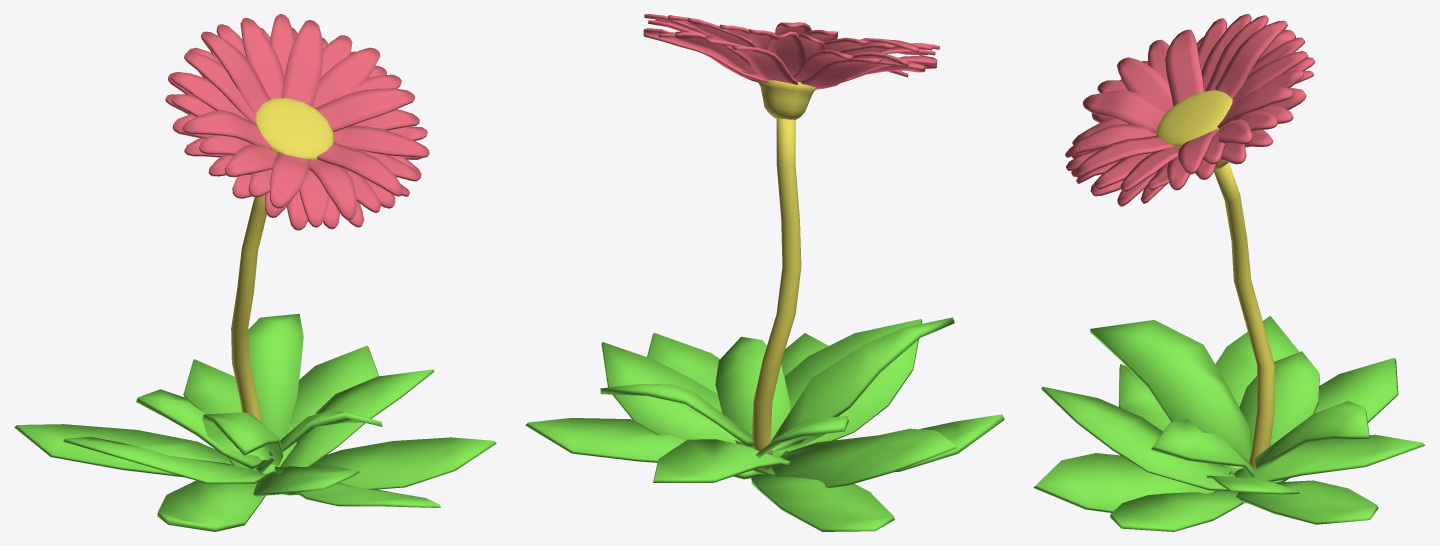
The model's file is ga-bera.fbx.
3 views of the same model, side by side, from view 1: azimuth 30°, elevation 25°; view 2: azimuth 150°, elevation 25°; view 3: azimuth 270°, elevation 25° (orthographic). The views are drawn at different scales.
Visible parts, largest first — view 1: Cube.028, Cube.034, Cube.030, Cube.047, Cube.035, Cube.025, Cylinder, Cylinder.001, Cube.036, Cube.029, Cube.031, Cube.027 (+25 smaller); view 2: Cube.047, Cylinder, Cube.036, Cube.035, Cube.031, Cube.030, Cube.037, Cube.029, Cube.032, Cube.027, Cube.034, Cube.028 (+5 smaller); view 3: Cube.031, Cube.037, Cube.026, Cylinder, Cube.047, Cube.027, Cube.029, Cube.028, Cube.033, Cube.030, Cube.034, Cube.032 (+23 smaller).
Boxes of the visible parts, bbox=[...] form: Cube.028: bbox=[282, 437, 496, 495]; Cube.034: bbox=[239, 313, 303, 440]; Cube.030: bbox=[14, 424, 231, 478]; Cube.047: bbox=[165, 27, 421, 230]; Cube.035: bbox=[280, 369, 434, 467]; Cube.025: bbox=[157, 480, 265, 531]; Cylinder: bbox=[231, 194, 266, 422]; Cylinder.001: bbox=[255, 98, 333, 160]; Cube.036: bbox=[63, 436, 266, 483]; Cube.029: bbox=[290, 345, 378, 428]; Cube.031: bbox=[202, 412, 283, 465]; Cube.027: bbox=[183, 359, 296, 495]; Cube.047: bbox=[643, 28, 937, 89]; Cylinder: bbox=[752, 118, 801, 469]; Cube.036: bbox=[771, 428, 956, 488]; Cube.035: bbox=[601, 342, 735, 443]; Cube.031: bbox=[771, 317, 954, 453]; Cube.030: bbox=[751, 474, 894, 531]; Cube.037: bbox=[784, 319, 922, 451]; Cube.029: bbox=[525, 418, 755, 479]; Cube.032: bbox=[715, 336, 790, 456]; Cube.027: bbox=[653, 439, 789, 482]; Cube.034: bbox=[600, 384, 754, 447]; Cube.028: bbox=[647, 333, 719, 393]; Cube.031: bbox=[1090, 320, 1250, 461]; Cube.037: bbox=[1041, 387, 1235, 491]; Cube.026: bbox=[1033, 453, 1231, 512]; Cylinder: bbox=[1214, 162, 1274, 467]; Cube.047: bbox=[1071, 29, 1314, 206]; Cube.027: bbox=[1234, 434, 1425, 481]; Cube.029: bbox=[1236, 480, 1378, 524]; Cube.028: bbox=[1110, 490, 1243, 531]; Cube.033: bbox=[1239, 351, 1319, 468]; Cube.030: bbox=[1272, 358, 1398, 482]; Cube.034: bbox=[1254, 401, 1369, 471]; Cube.032: bbox=[1151, 419, 1255, 477].
Bounding box in the file's own units: 117 × 140 × 111.
